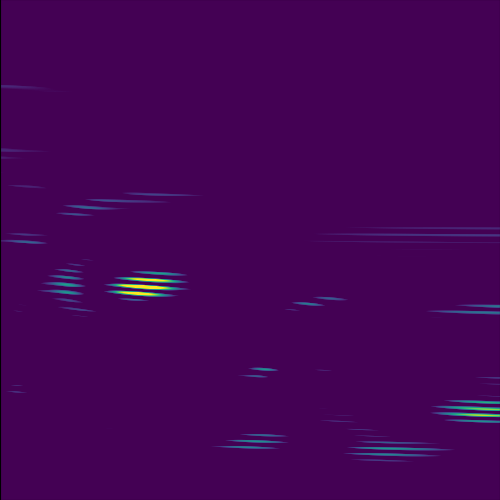semblance: (104, 267, 190, 306), (435, 391, 500, 434)
